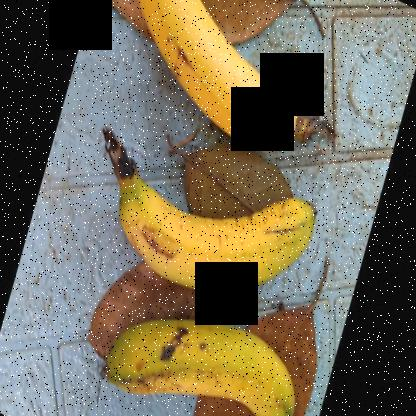freshripe: (130, 1, 314, 138)
ripe: (99, 165, 329, 310), (104, 319, 308, 415)
